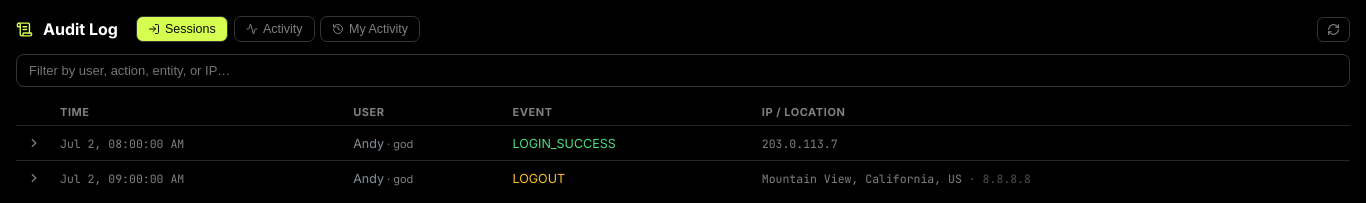
Test: AuditLogWidget "My Activity" tab (plan 038) › shows an honest empty state when no activity has been recorded on this login
Expected: the text "LOGIN_SUCCESS" is shown, [504,126,754,160]
Click the tab "My Activity" at (370, 29), box [320,16,420,42]
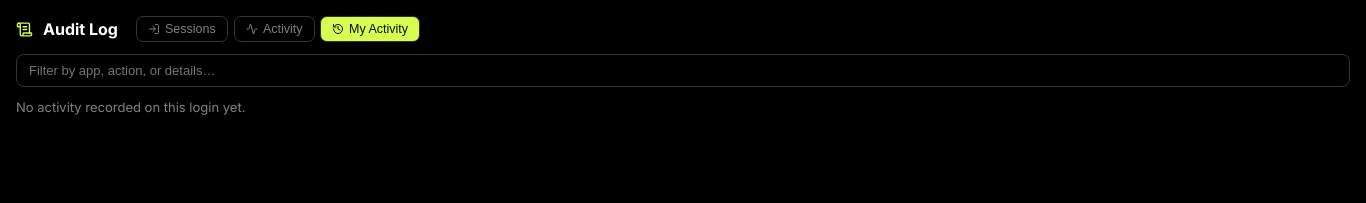
Now the text "No activity recorded on this login yet." is shown, box [16,99,245,115]
